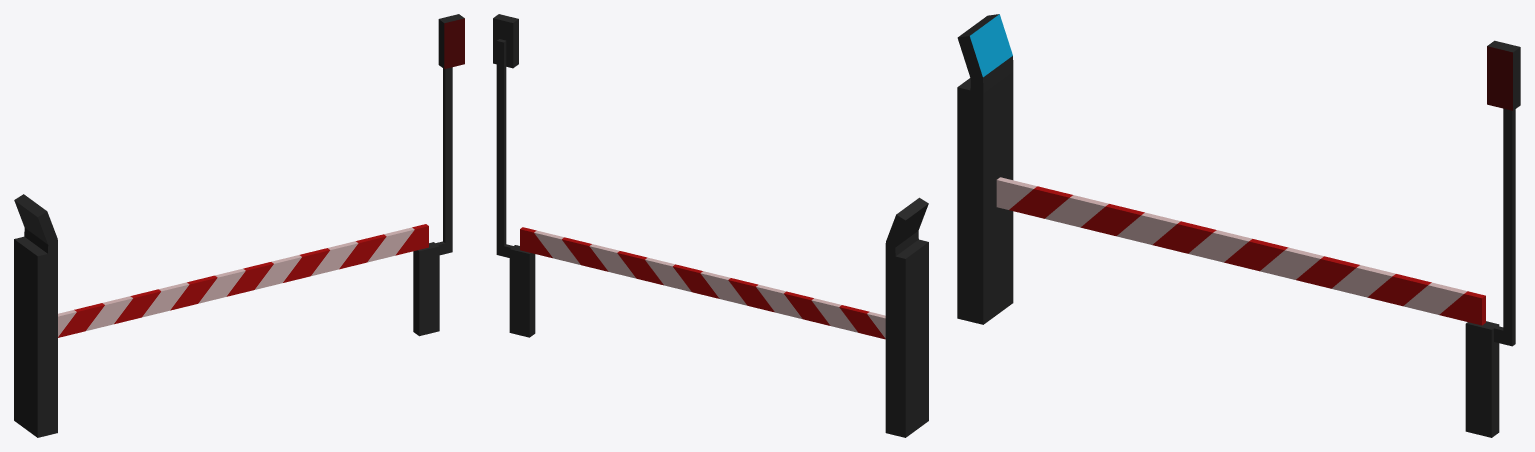
Rendered from SM_barrier.FBX.
The picture shows the model from 3 angles, left to right: view 1: azimuth 30°, elevation 25°; view 2: azimuth 150°, elevation 25°; view 3: azimuth 330°, elevation 25°; orthographic projection. The views are drawn at different scales.
Visible parts, largest first — view 1: barrier; view 2: barrier; view 3: barrier.
Boxes of the visible parts, box(x1,y1,x2,y2) form: barrier: box(14, 14, 464, 437); barrier: box(493, 14, 928, 437); barrier: box(957, 14, 1520, 437).
Bounding box in the file's own units: 423 × 291 × 40.
